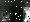person: (24, 8, 30, 22), (5, 10, 10, 21)
